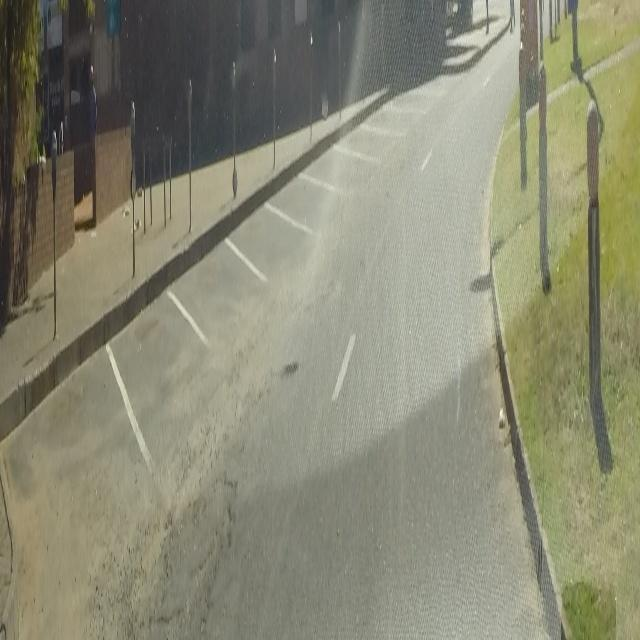pothole: (214, 486, 240, 552), (280, 353, 300, 380)
